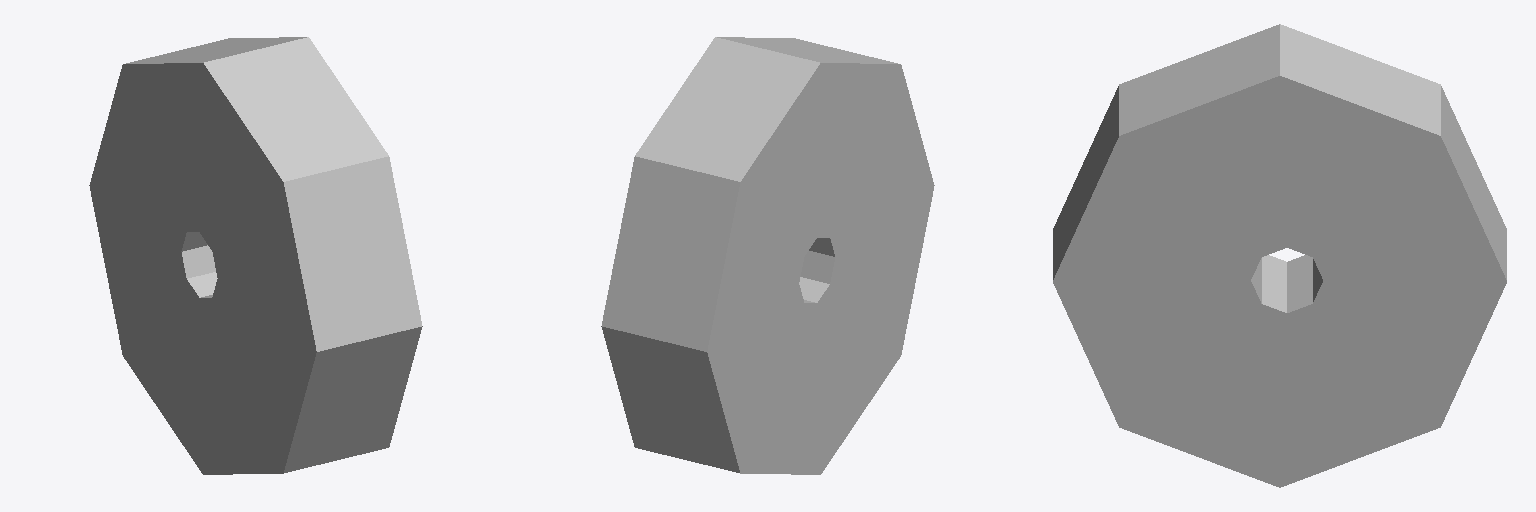
File: MowerWheel.obj
3 views of the same model, side by side, from view 1: azimuth 30°, elevation 25°; view 2: azimuth 150°, elevation 25°; view 3: azimuth 270°, elevation 25° (orthographic).
Parts seen in each view (by area): view 1: pCylinder2; view 2: pCylinder2; view 3: pCylinder2.
Boxes of the visible parts, <box> form: pCylinder2: <box>89,37,422,474</box>; pCylinder2: <box>601,37,934,474</box>; pCylinder2: <box>1053,24,1506,487</box>.
Size of the model in its own units: 0.078 by 0.2905 by 0.2905.